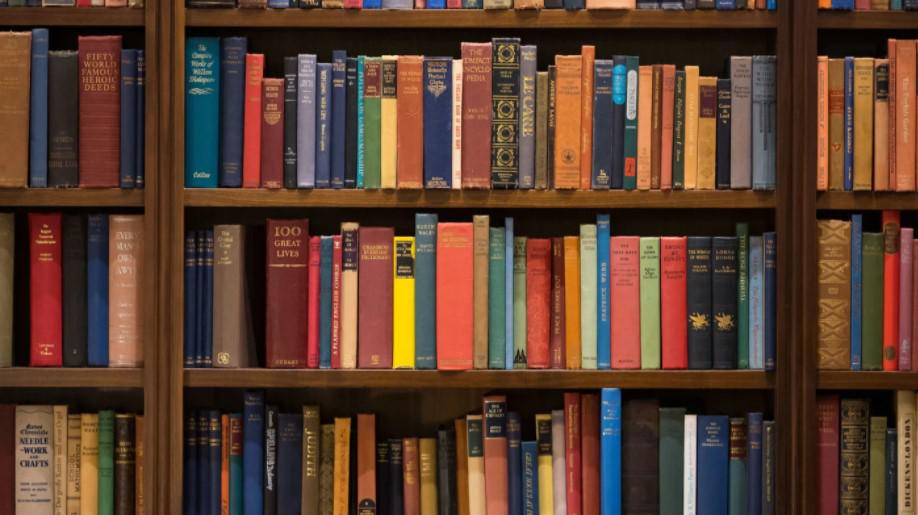book: (271, 223, 303, 373), (441, 229, 470, 369), (117, 220, 144, 367), (364, 230, 390, 369), (188, 48, 215, 181), (87, 41, 112, 183), (17, 410, 50, 515), (37, 220, 61, 363), (467, 52, 490, 190), (66, 221, 88, 363), (51, 61, 75, 186), (615, 242, 638, 367), (224, 43, 243, 189), (718, 242, 740, 367), (631, 410, 656, 514), (499, 44, 516, 186), (691, 240, 710, 367), (664, 241, 683, 367), (561, 61, 580, 186), (643, 242, 661, 367), (706, 422, 730, 515), (756, 65, 774, 187), (396, 241, 413, 366), (431, 67, 448, 189), (421, 220, 435, 365), (733, 61, 749, 186), (663, 418, 683, 515), (220, 231, 234, 368), (488, 406, 505, 514), (280, 419, 299, 515), (901, 42, 913, 191), (96, 221, 108, 368), (533, 245, 547, 366), (246, 403, 261, 514), (601, 222, 612, 372), (606, 397, 620, 514), (477, 222, 488, 367), (569, 239, 581, 369), (586, 229, 597, 366), (493, 232, 504, 367), (406, 67, 418, 187), (586, 400, 598, 514), (599, 68, 610, 190), (360, 420, 374, 515), (345, 228, 354, 368), (368, 64, 378, 189), (83, 419, 96, 515), (306, 417, 318, 515), (122, 421, 134, 515), (338, 422, 348, 515), (422, 442, 434, 515), (339, 59, 346, 184), (407, 444, 417, 514), (723, 82, 729, 189), (393, 443, 402, 513), (306, 65, 310, 184), (526, 240, 527, 244)
